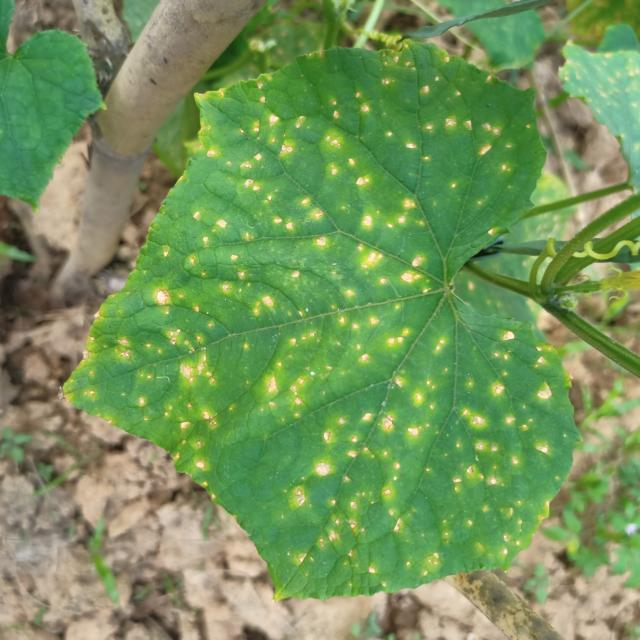disease_cucumber: (112, 56, 582, 572)
